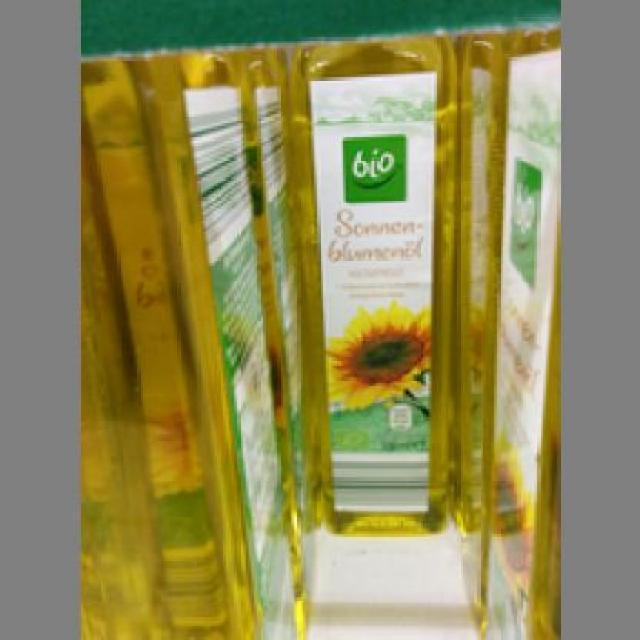Oil: (285, 33, 458, 530)
